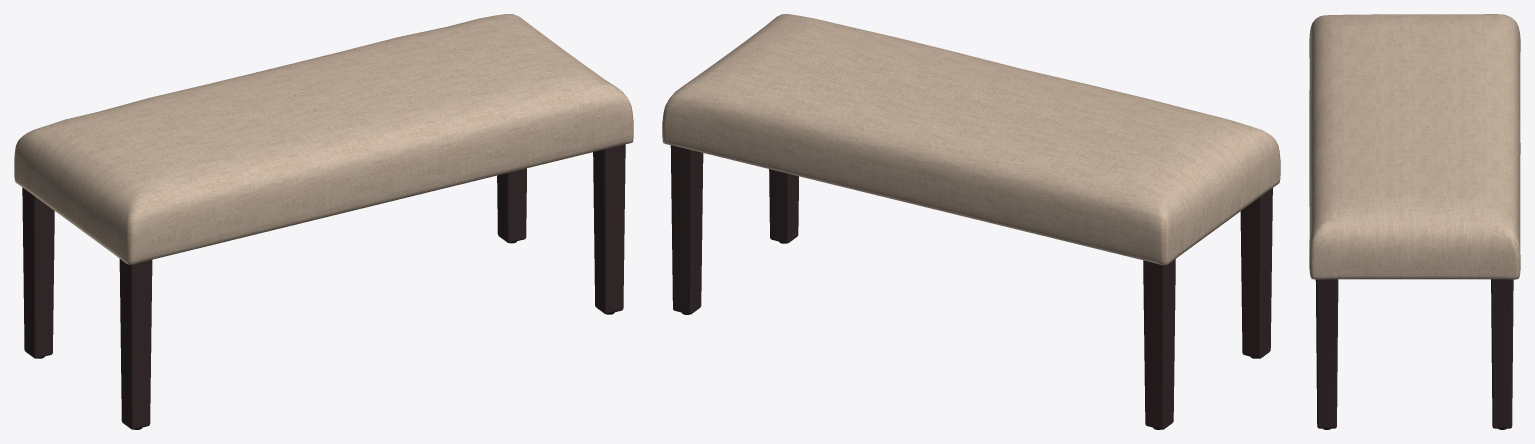
The model's file is abo-B07QGWLB66.glb.
3 renders of one model, left to right at view 1: azimuth 30°, elevation 25°; view 2: azimuth 150°, elevation 25°; view 3: azimuth 270°, elevation 25°, orthographic. The views are drawn at different scales.
Bounding box in the file's own units: 1.01 × 0.456 × 0.407.
1 material, 1 textured.
